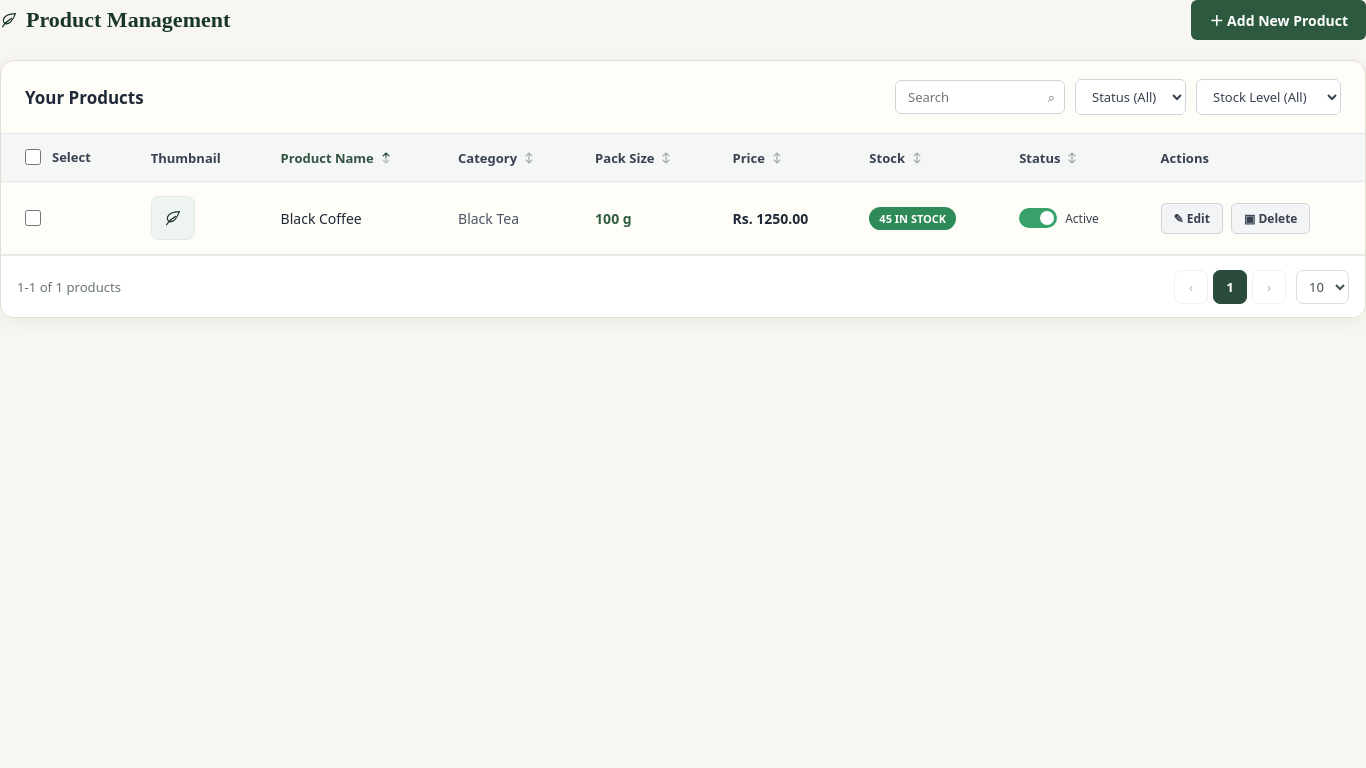
it: shows product categories and preserves the selected category when editing
Later steps or results of the test are not shown.
Check: the text "Black Tea" is shown, box 438,182 -> 575,254
Click the button "✎ Edit" at (1192, 218), box 1161,202 -> 1223,234
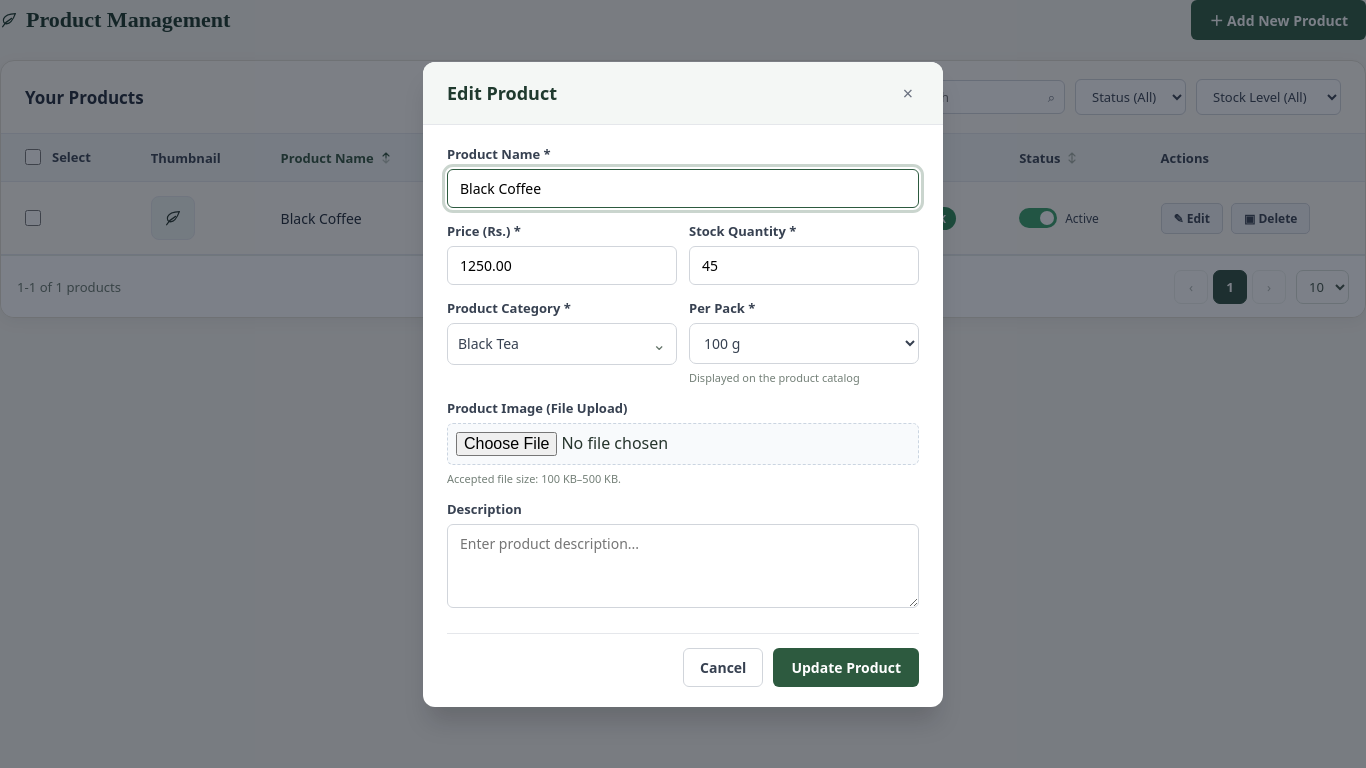
Check: the button "Black Tea ⌄" is shown, box 447,322 -> 677,364
